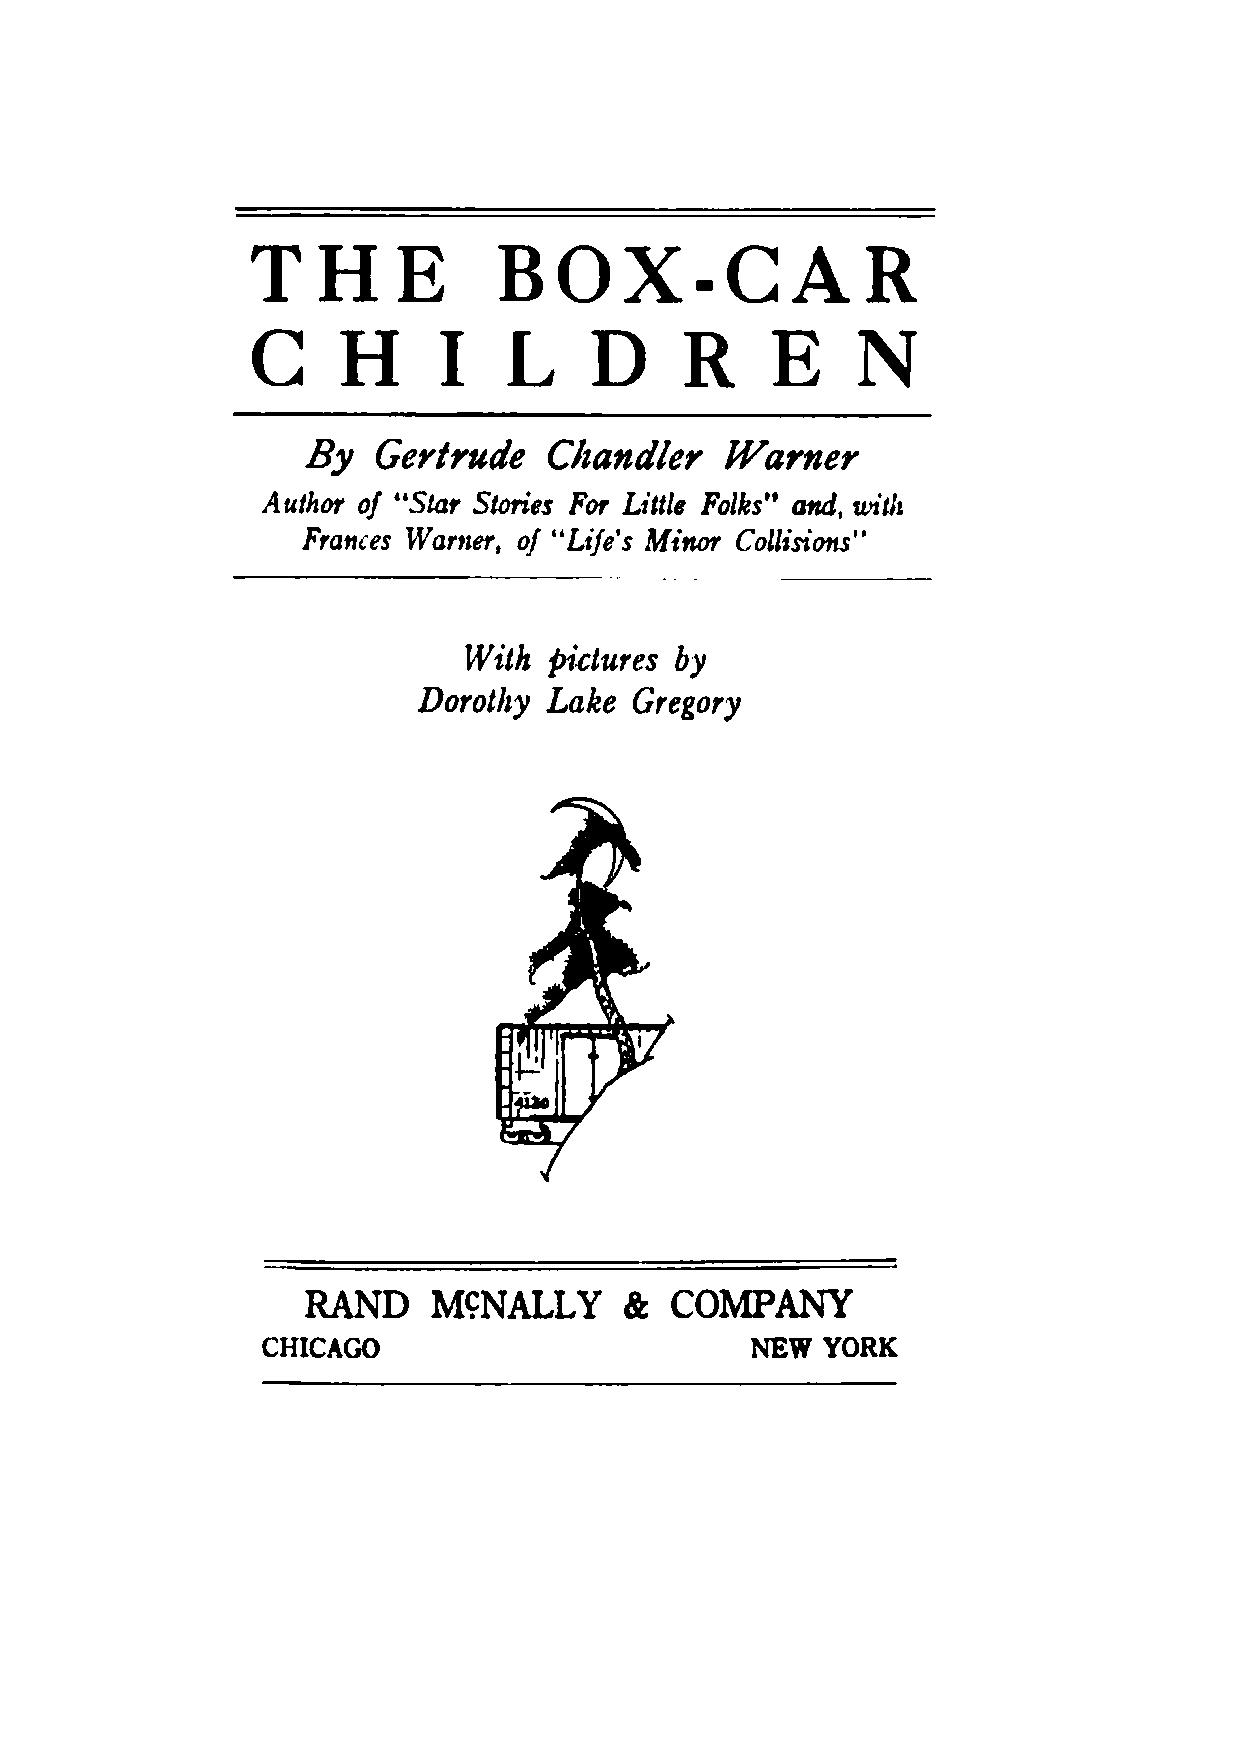author: (301, 436, 862, 476)
title: (244, 239, 921, 393)
